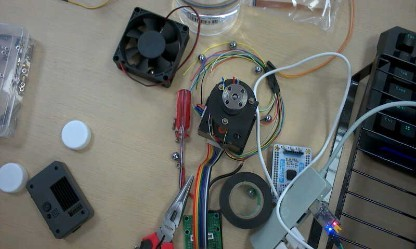ironball: (245, 187, 255, 197), (197, 53, 205, 61), (171, 151, 178, 160), (229, 40, 236, 48), (264, 114, 271, 122), (254, 65, 261, 73), (148, 69, 154, 74)
